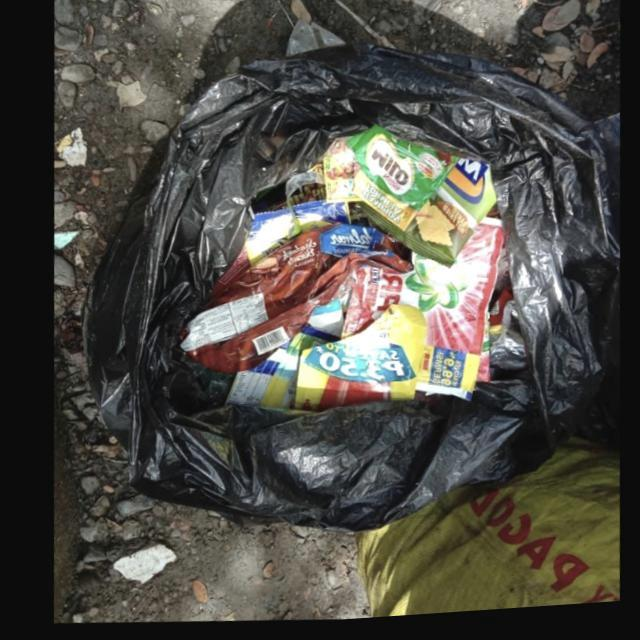food_wrapper: (176, 226, 411, 374), (348, 164, 495, 276), (240, 200, 348, 271)
plastic_sachet: (335, 224, 500, 408), (289, 310, 423, 416), (341, 130, 457, 238), (221, 331, 335, 412)
